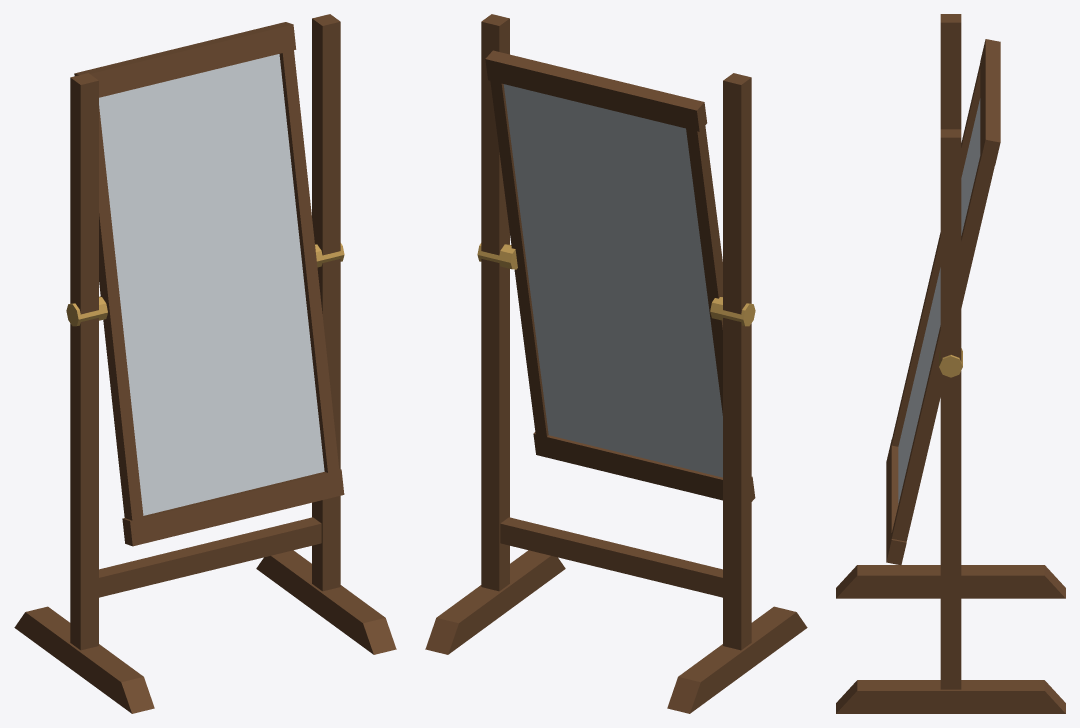
File: FN_Mirror_Cheval.obj
3 renders of one model, left to right at view 1: azimuth 30°, elevation 25°; view 2: azimuth 150°, elevation 25°; view 3: azimuth 270°, elevation 25°, orthographic. The views are drawn at different scales.
Parts seen in each view (by area): view 1: FN_Mirror_Cheval; view 2: FN_Mirror_Cheval; view 3: FN_Mirror_Cheval.
Boxes of the visible parts, x1=… form: FN_Mirror_Cheval: x1=14, y1=14, x2=396, y2=713; FN_Mirror_Cheval: x1=425, y1=14, x2=807, y2=713; FN_Mirror_Cheval: x1=836, y1=14, x2=1065, y2=713.
Bounding box in the file's own units: 0.704 × 1.49 × 0.54.
1 material, 1 textured.
